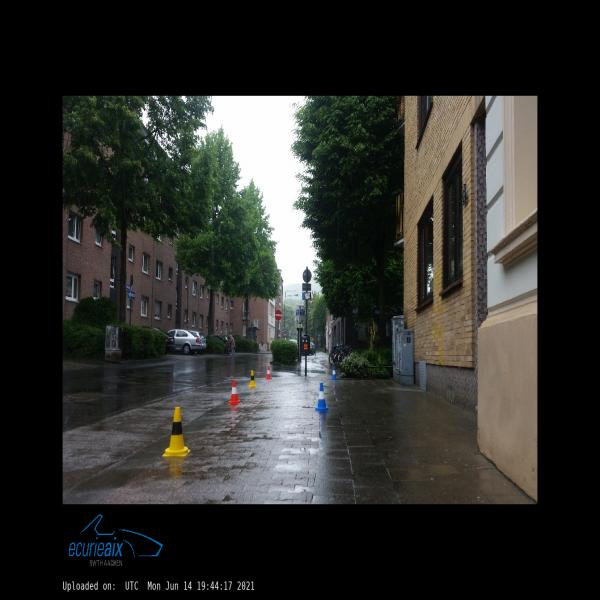blue_cone: (315, 383, 329, 411), (331, 366, 337, 380)
orange_cone: (228, 380, 240, 405), (265, 366, 272, 379)
yellow_cone: (163, 407, 190, 456), (248, 370, 256, 387)
